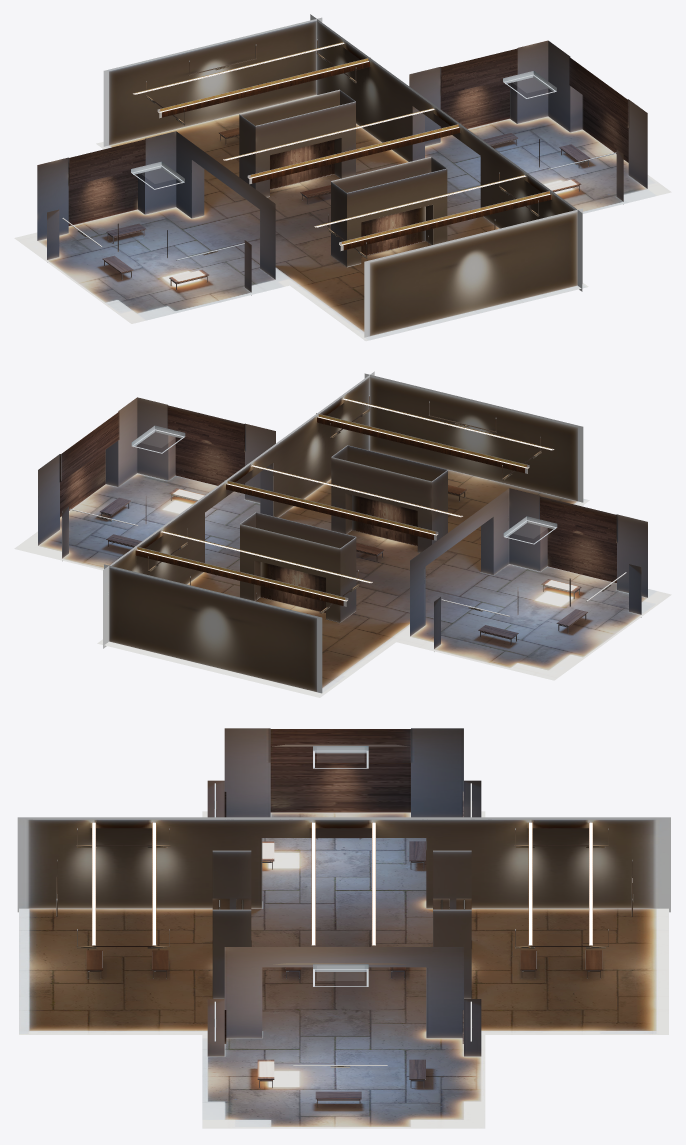
Rendered from vr_art_gallery.glb.
3 views of the same model, one above another, from view 1: azimuth 30°, elevation 25°; view 2: azimuth 150°, elevation 25°; view 3: azimuth 270°, elevation 25° (orthographic). The views are drawn at different scales.
Visible parts, largest first — view 1: Object_8, Object_9, Object_7, Object_6, Object_11, Object_5, Object_2, Object_10; view 2: Object_8, Object_9, Object_7, Object_6, Object_11, Object_5, Object_2, Object_10; view 3: Object_9, Object_6, Object_7, Object_8, Object_5, Object_2, Object_10, Object_11.
Boxes of the visible parts, x1,y1,x2,y2 form: Object_8: [103, 17, 582, 337]; Object_9: [14, 95, 671, 341]; Object_7: [310, 14, 647, 291]; Object_6: [37, 131, 275, 295]; Object_11: [133, 42, 552, 250]; Object_5: [102, 127, 590, 289]; Object_2: [135, 42, 550, 245]; Object_10: [62, 39, 616, 260]; Object_8: [104, 373, 583, 693]; Object_9: [14, 470, 671, 697]; Object_7: [38, 371, 374, 648]; Object_6: [410, 488, 647, 651]; Object_11: [134, 398, 554, 606]; Object_5: [100, 485, 587, 645]; Object_2: [136, 398, 551, 600]; Object_10: [69, 395, 626, 616]; Object_9: [19, 811, 668, 1128]; Object_6: [17, 728, 670, 912]; Object_7: [207, 947, 481, 1056]; Object_8: [212, 850, 471, 998]; Object_5: [86, 838, 602, 1107]; Object_2: [92, 822, 592, 944]; Object_10: [56, 783, 633, 1067]; Object_11: [92, 822, 592, 945].
Size of the model in its own units: 4007 by 646 by 3511.
Materials: 10 (8 with a texture image).
